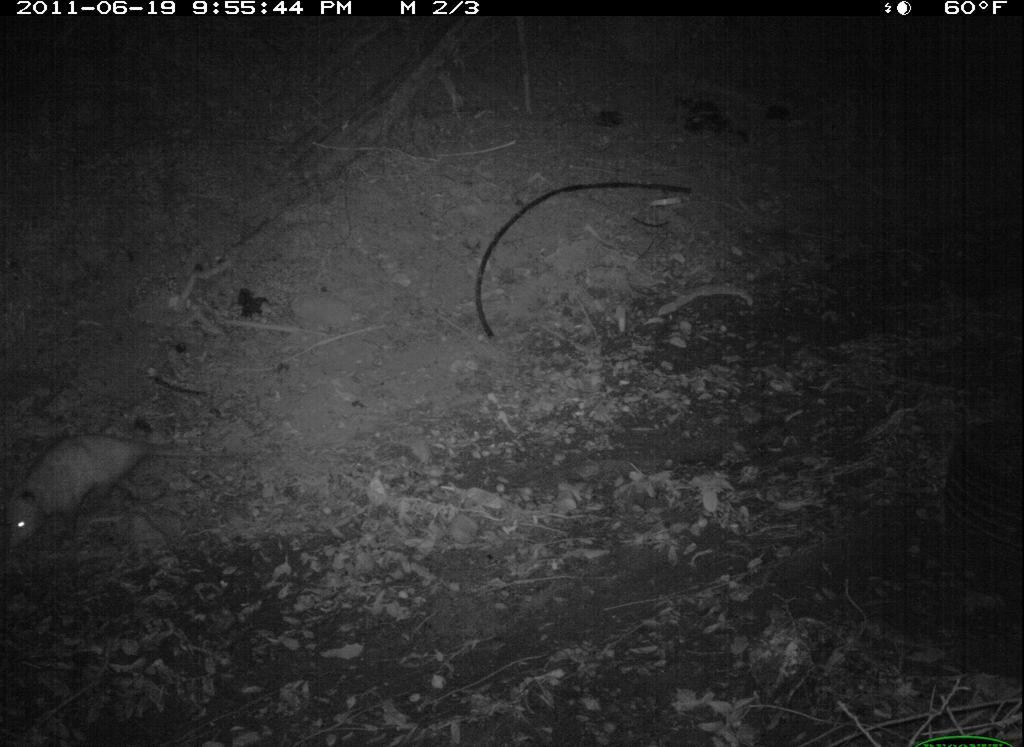opossum: (3, 424, 167, 550)
